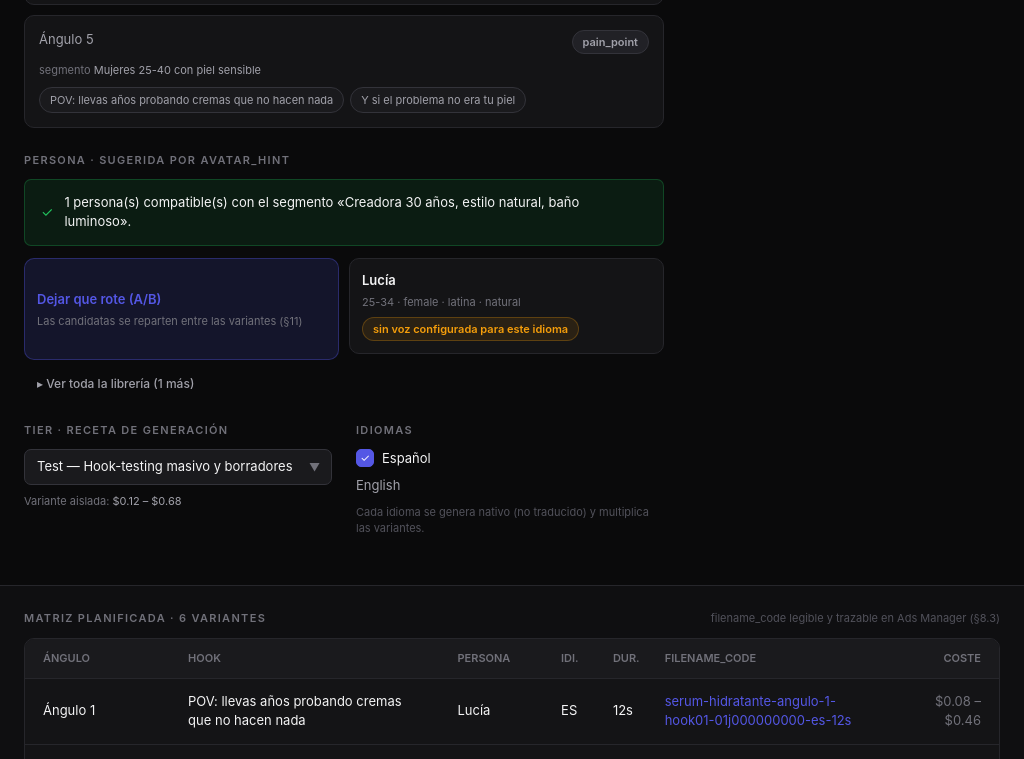
Test: CP2 · matriz y confirmación de gasto › la persona que el `avatar_hint` NO sugiere no se ofrece de entrada, pero «ver toda la librería» la alcanza
(page scrolled)
Check: the radio button labelled "Lucía" is shown, box [349,258,664,354]
Check: the radio button labelled "mateo" is not shown
Click the button "▸ Ver toda la librería (1 más)" at [116, 384], box [24,370,207,398]
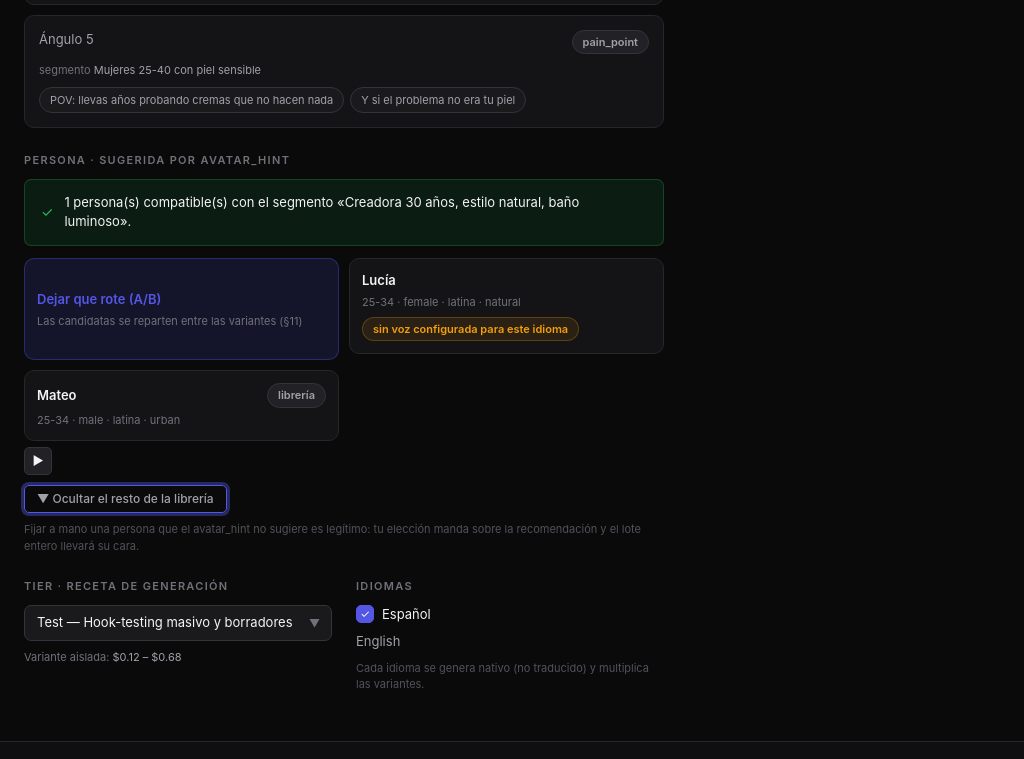
Check: the number of radio buttons labelled "Lucía" is 1, box [349,258,664,354]
Check: the radio button labelled "Mateo librería 25-34 · male · latina · urban" is shown, box [24,370,339,441]
